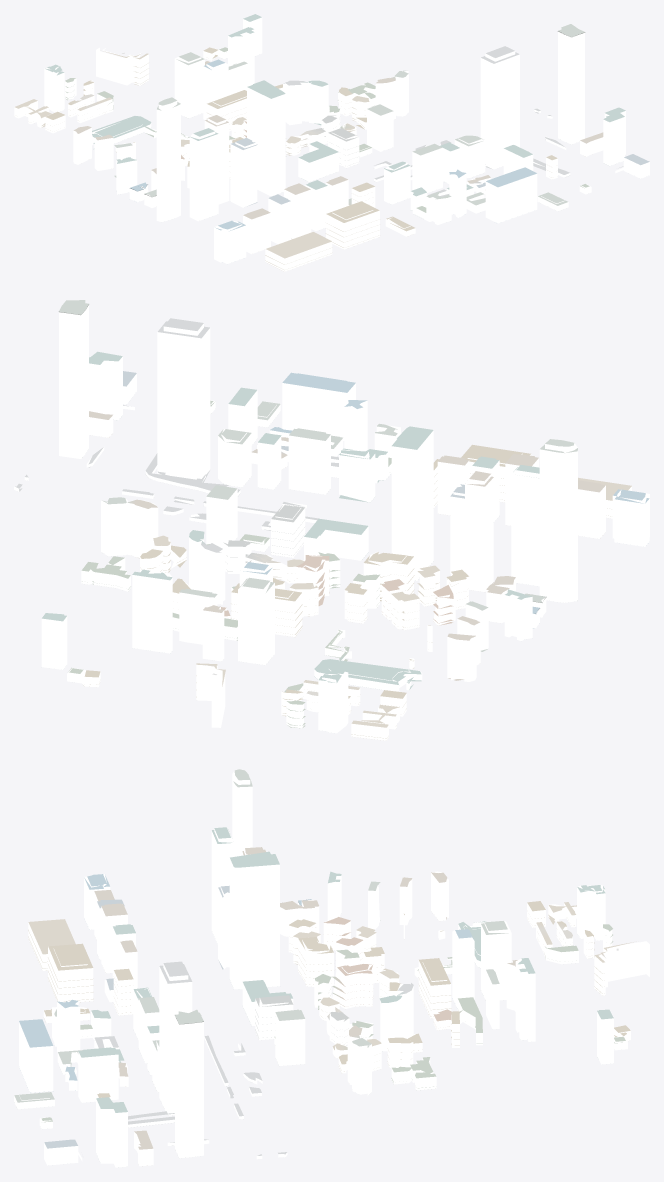
File: buildings--1_0-coarse.glb
3 views of the same model, one above another, from view 1: azimuth 30°, elevation 25°; view 2: azimuth 150°, elevation 25°; view 3: azimuth 270°, elevation 25° (orthographic). The views are drawn at different scales.
Visible parts, largest first — view 1: block_-1_0_office, block_-1_0_roof, block_-1_0_residential; view 2: block_-1_0_office, block_-1_0_roof, block_-1_0_residential; view 3: block_-1_0_office, block_-1_0_roof, block_-1_0_residential.
Boxes of the visible parts, x1=… form: block_-1_0_office: x1=44, y1=17, x2=649, y2=263; block_-1_0_roof: x1=15, y1=14, x2=649, y2=271; block_-1_0_residential: x1=14, y1=47, x2=623, y2=271; block_-1_0_office: x1=41, y1=305, x2=649, y2=733; block_-1_0_roof: x1=15, y1=300, x2=649, y2=740; block_-1_0_residential: x1=14, y1=400, x2=631, y2=740; block_-1_0_office: x1=14, y1=770, x2=613, y2=1167; block_-1_0_roof: x1=14, y1=769, x2=636, y2=1167; block_-1_0_residential: x1=28, y1=903, x2=649, y2=1161.
Size of the model in its own units: 663 by 175 by 691.
